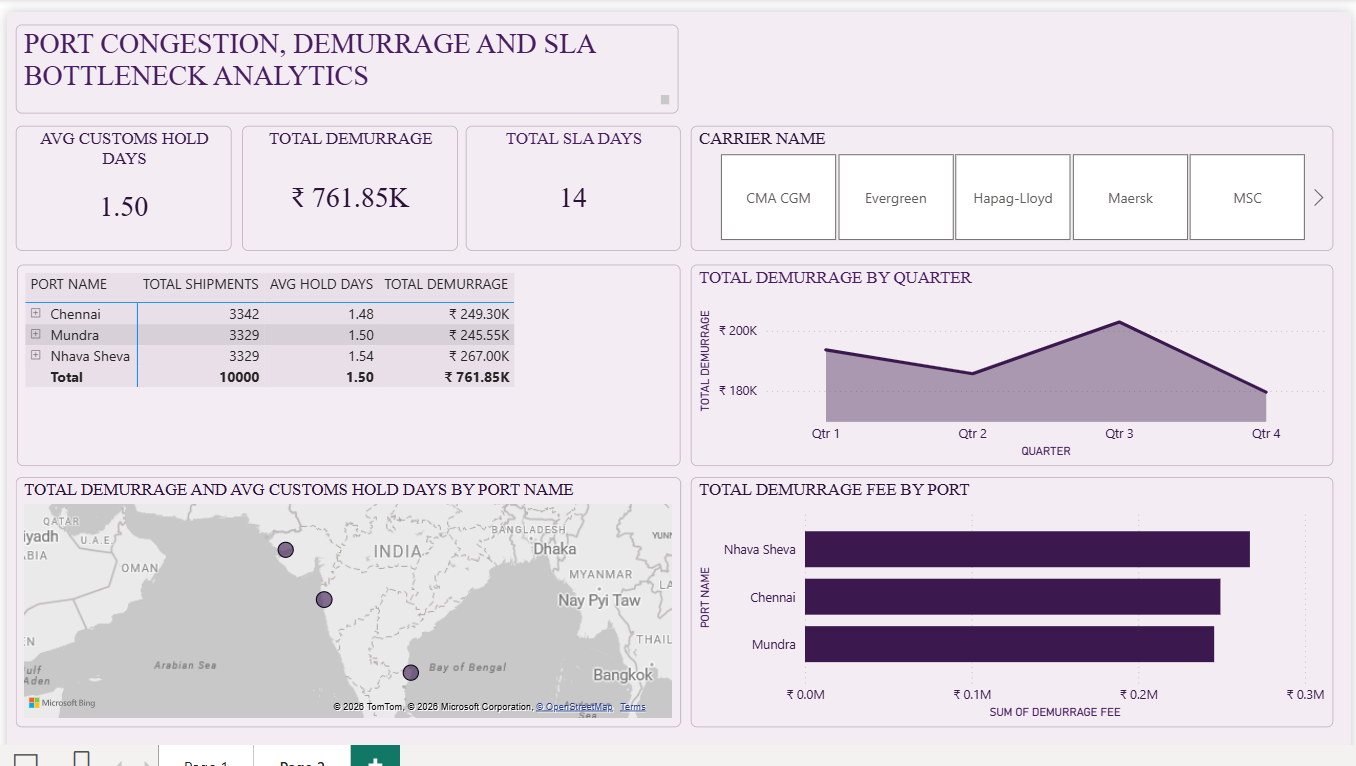

The dashboard page shown, as its layout file describes it:
{"tool":"powerbi","page":{"name":"Page 2","canvas":[1280,720],"ordinal":1},"visuals":[{"type":"card","title":"AVG CUSTOMS HOLD DAYS","fields":{"Values":["Dim_Carriers.Avg Customs Hold Days"]},"box":[8.9,107.8,205.6,118.9],"z":0},{"type":"card","title":"TOTAL DEMURRAGE","fields":{"Values":["Dim_Carriers.Total Demurrage"]},"box":[223.3,107.8,205.6,118.9],"z":1000},{"type":"clusteredBarChart","title":"TOTAL DEMURRAGE FEE BY PORT ","fields":{"Category":["Dim_Ports.PortName"],"Y":["Sum(Fact_FreightInvoices.DemurrageFee)"]},"box":[651.2,442.9,611.9,238.1],"z":2000},{"type":"areaChart","title":"TOTAL DEMURRAGE BY QUARTER","fields":{"Category":["Fact_Shipments_audit.DispatchDate.Variation.Date Hierarchy.Quarter"],"Y":["Dim_Carriers.Total Demurrage"]},"box":[651.2,240.5,611.9,191.7],"z":3000},{"type":"pivotTable","fields":{"Rows":["Dim_Ports.PortName","Dim_Ports.SLA_Days"],"Values":["CountNonNull(Fact_FreightInvoices.ShipmentID)","Dim_Carriers.Avg Customs Hold Days","Dim_Carriers.Total Demurrage"]},"box":[9.5,240.5,632.1,191.7],"z":4000},{"type":"map","title":"TOTAL DEMURRAGE AND AVG CUSTOMS HOLD DAYS BY PORT NAME","fields":{"Size":["Dim_Carriers.Total Demurrage"],"Category":["Dim_Ports.PortName"]},"box":[8.3,442.9,633.3,238.1],"z":5000},{"type":"textbox","title":"PORT CONGESTION, DEMURRAGE AND SLA BOTTLENECK ANALYTICS","box":[8.4,12.1,631,84.5],"z":6000},{"type":"card","title":"TOTAL SLA DAYS","fields":{"Values":["Sum(Dim_Ports.SLA_Days)"]},"box":[436.7,107.8,204.4,118.9],"z":7000},{"type":"slicer","title":"CARRIER NAME","fields":{"Values":["Dim_Carriers.CarrierName"]},"box":[651.2,108.3,611.9,119],"z":8000}]}

Visuals, with their boxes on the page's 1280x720 design canvas (x1, y1, x2, y2). These are canvas units, not pixel positions in the 1356x766 screenshot, which may show the page scaled, cropped or inside an application window:
"AVG CUSTOMS HOLD DAYS" card: (x1=9, y1=108, x2=214, y2=227)
"TOTAL DEMURRAGE" card: (x1=223, y1=108, x2=429, y2=227)
"TOTAL DEMURRAGE FEE BY PORT " clusteredBarChart: (x1=651, y1=443, x2=1263, y2=681)
"TOTAL DEMURRAGE BY QUARTER" areaChart: (x1=651, y1=240, x2=1263, y2=432)
pivotTable - Dim_Ports.PortName x Dim_Ports.SLA_Days: (x1=10, y1=240, x2=642, y2=432)
"TOTAL DEMURRAGE AND AVG CUSTOMS HOLD DAYS BY PORT NAME" map: (x1=8, y1=443, x2=642, y2=681)
"PORT CONGESTION, DEMURRAGE AND SLA BOTTLENECK ANALYTICS" textbox: (x1=8, y1=12, x2=639, y2=97)
"TOTAL SLA DAYS" card: (x1=437, y1=108, x2=641, y2=227)
"CARRIER NAME" slicer: (x1=651, y1=108, x2=1263, y2=227)
